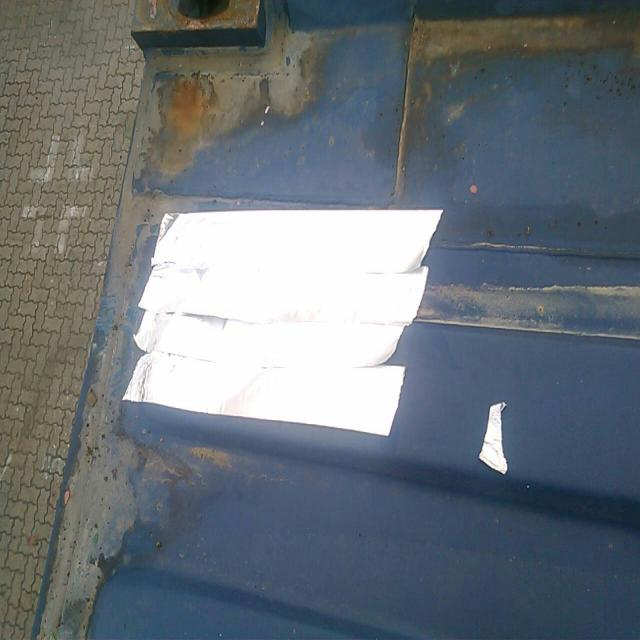rust: (140, 57, 235, 166)
